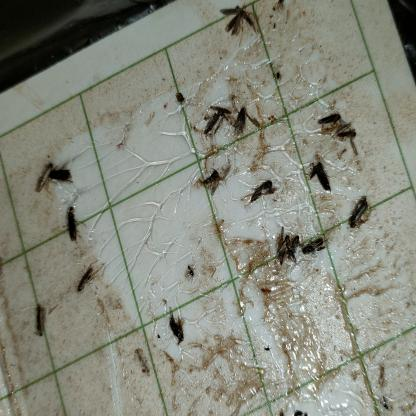prays_oleae: (161, 304, 190, 346), (220, 4, 256, 37), (69, 260, 100, 298), (25, 303, 53, 339), (240, 178, 278, 204), (346, 197, 374, 232), (307, 159, 334, 192), (62, 209, 87, 244), (197, 107, 223, 136), (193, 166, 221, 192), (31, 161, 53, 191), (232, 102, 252, 134), (49, 162, 74, 187), (336, 126, 358, 152), (303, 237, 326, 257), (273, 231, 286, 265), (288, 228, 301, 261), (315, 113, 344, 127), (184, 261, 198, 285), (380, 390, 389, 408)
